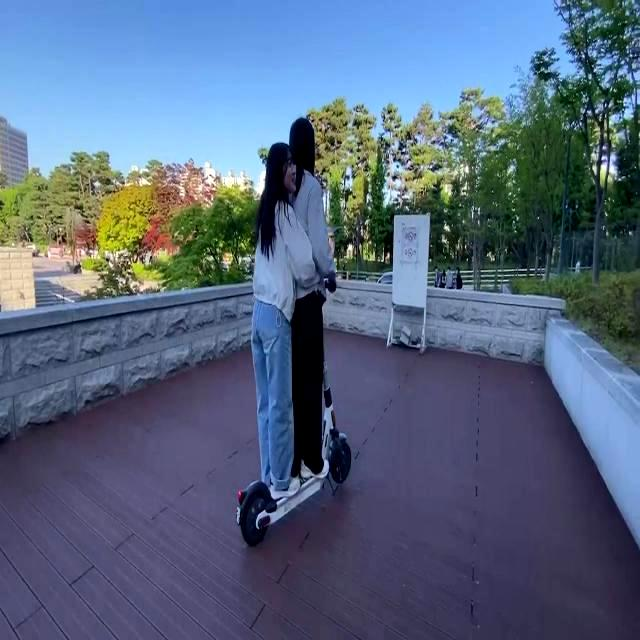bare_head: (253, 137, 303, 204), (283, 115, 332, 179)
human: (245, 138, 313, 496), (276, 113, 337, 479)
kickboard: (235, 423, 362, 569)
